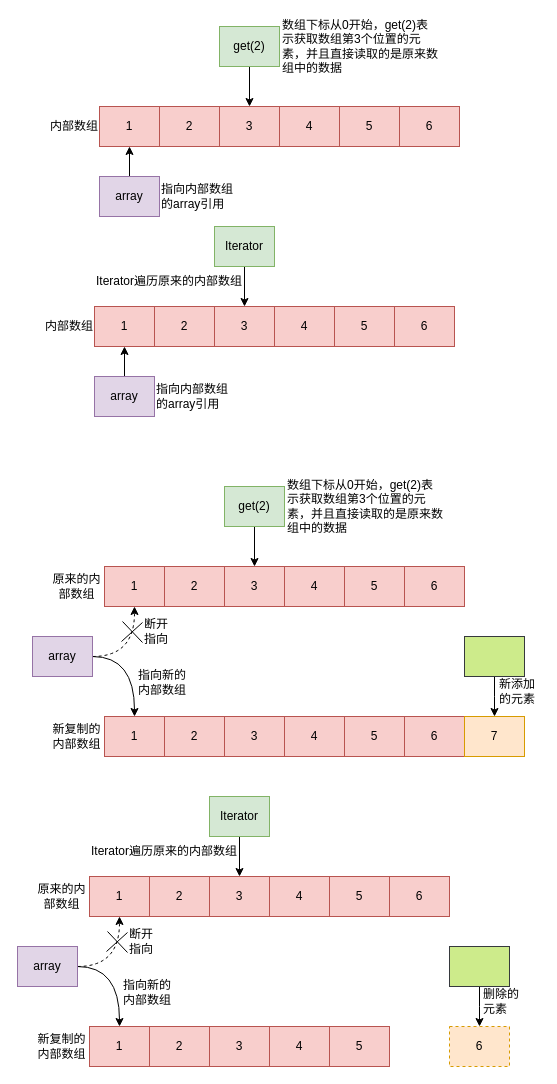
This 557x1084 diagram has some shape labels left out. The shapes that lost their labels are listed below. From the top down, each one's centre as x and y in pixels, then its label:
At point 494,656: "添加 操作".
At point 479,966: "删除 操作".
